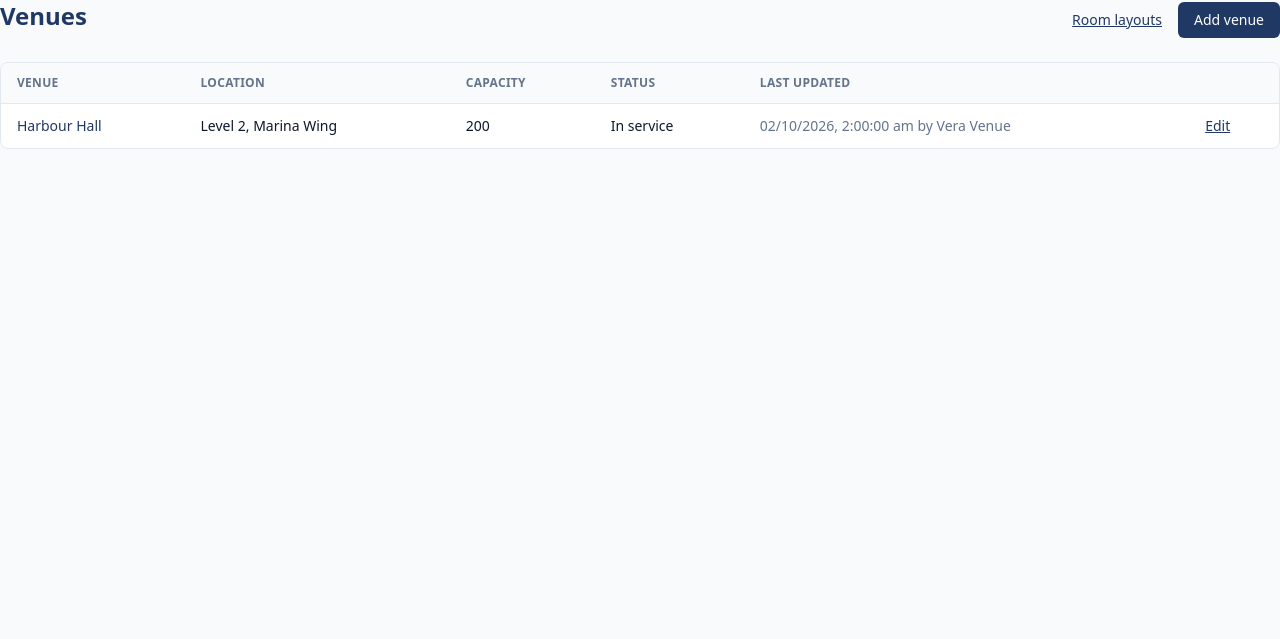
Test case: VenueCatalogue (SCRUM-65) › AC4: a refusal from the server is explained
Click the button "Add venue". click: (1229, 20)
box: [1178,2,1279,38]
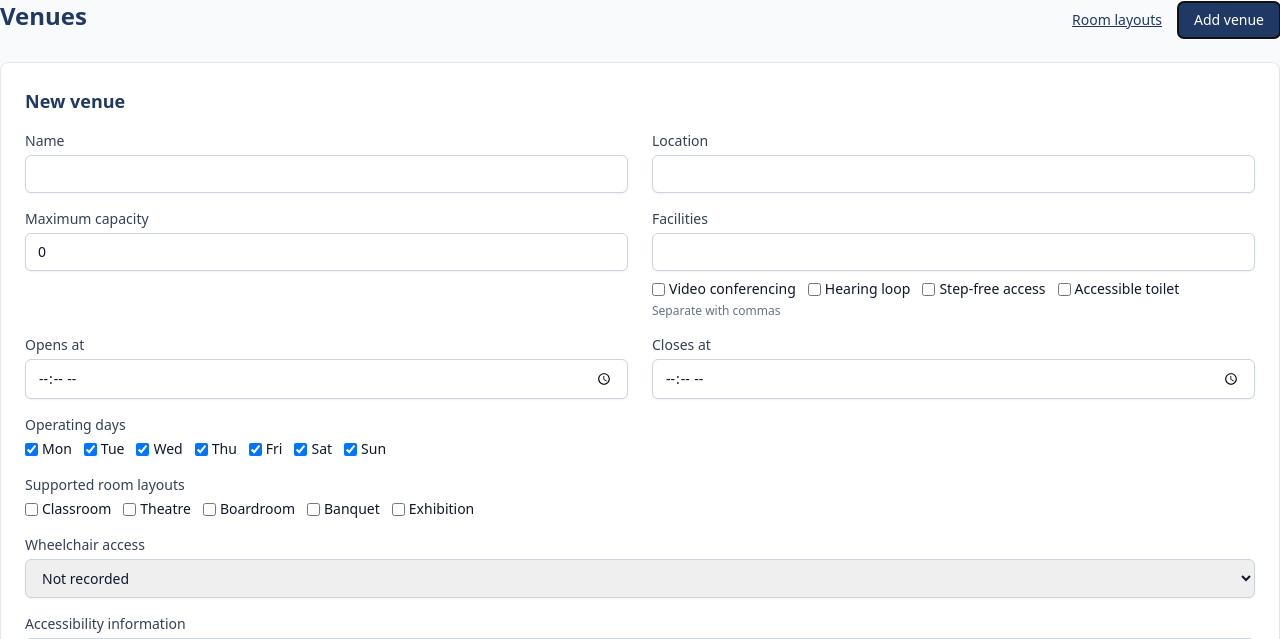
Type "Annex" into the field labelled "Name". click: (326, 174)
box: [25,155,628,193]
(page scrolled)
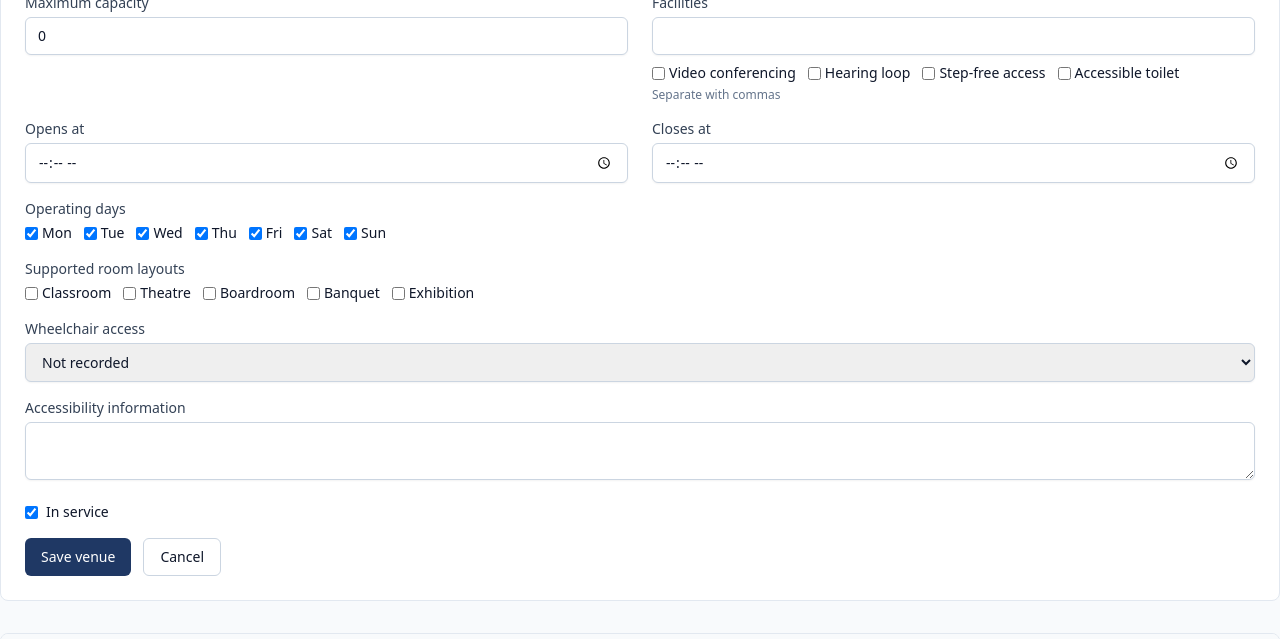
Click the button "Save venue". click: (78, 557)
box: [25,538,131,576]
(page scrolled)
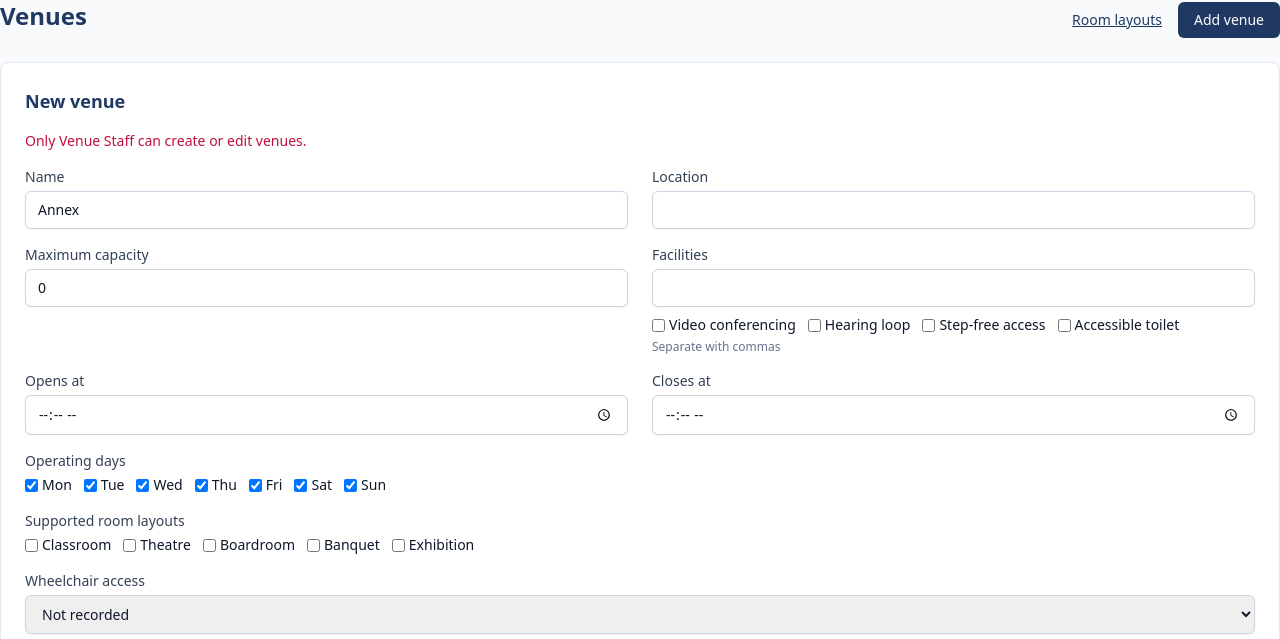
Now the message reads "Only Venue Staff can create or edit venues.", box [25,131,306,150]
